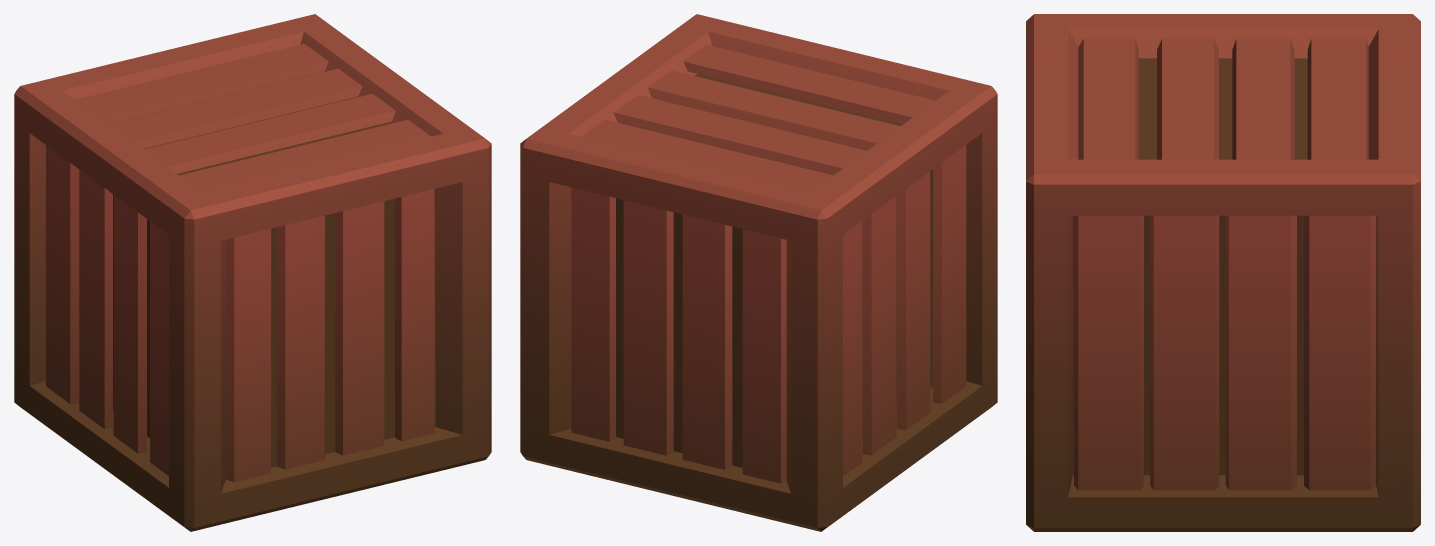
Rendered from crate.glb.
3 views of the same model, side by side, from view 1: azimuth 30°, elevation 25°; view 2: azimuth 150°, elevation 25°; view 3: azimuth 270°, elevation 25° (orthographic). The views are drawn at different scales.
Visible parts, largest first — view 1: Crate_mesh1; view 2: Crate_mesh1; view 3: Crate_mesh1.
Part boxes in pixels (x1,y1,x2,y2): Crate_mesh1: (14,14,491,531); Crate_mesh1: (520,14,997,531); Crate_mesh1: (1026,14,1420,531).
Bounding box in the file's own units: 1 × 1 × 1.
Materials: 1 (1 with a texture image).
